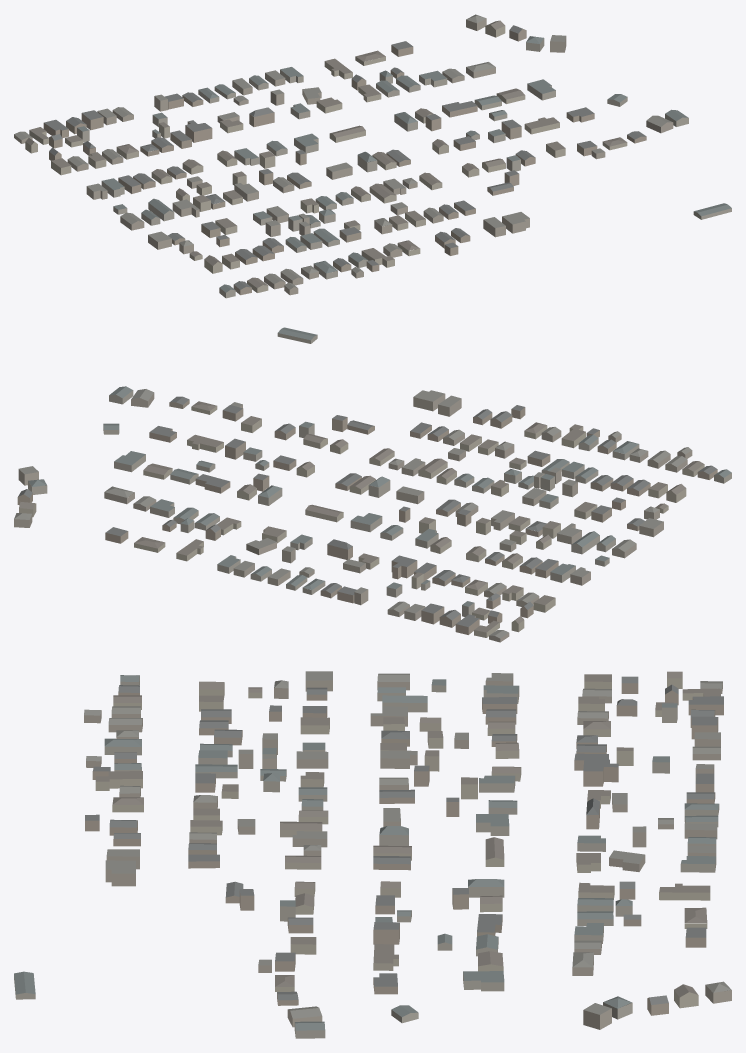
File: 161df669e78c-chunk-1201_11838.glb
3 views of the same model, one above another, from view 1: azimuth 30°, elevation 25°; view 2: azimuth 150°, elevation 25°; view 3: azimuth 270°, elevation 25° (orthographic). The views are drawn at different scales.
Visible parts, largest first — view 1: building_54797; view 2: building_101186; view 3: building_54797, building_67985, building_14941, building_101186, building_87063, building_88362, building_7800, building_137525, building_103947, building_56669, building_65858, building_128978 (+4 smaller).
Boxes of the visible parts, x1,y1,x2,y2 form: building_54797: (185, 120, 212, 142); building_101186: (413, 390, 445, 411); building_54797: (583, 759, 618, 786); building_67985: (463, 971, 504, 991); building_14941: (659, 883, 710, 900); building_101186: (105, 860, 135, 886); building_87063: (95, 771, 142, 790); building_88362: (476, 814, 509, 835); building_7800: (380, 750, 417, 768); building_137525: (382, 695, 427, 712); building_103947: (468, 879, 504, 897); building_56669: (479, 775, 515, 792); building_65858: (583, 1003, 611, 1029); building_128978: (373, 944, 398, 970).
Size of the model in its own units: 386 by 10.12 by 328.
